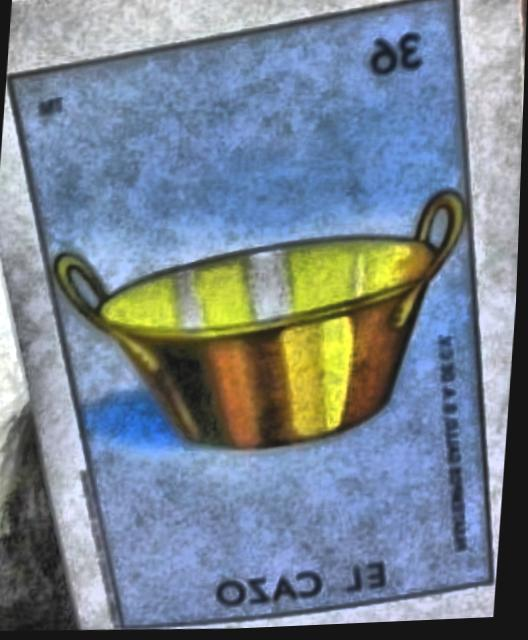El Cazo: (8, 0, 485, 627)
